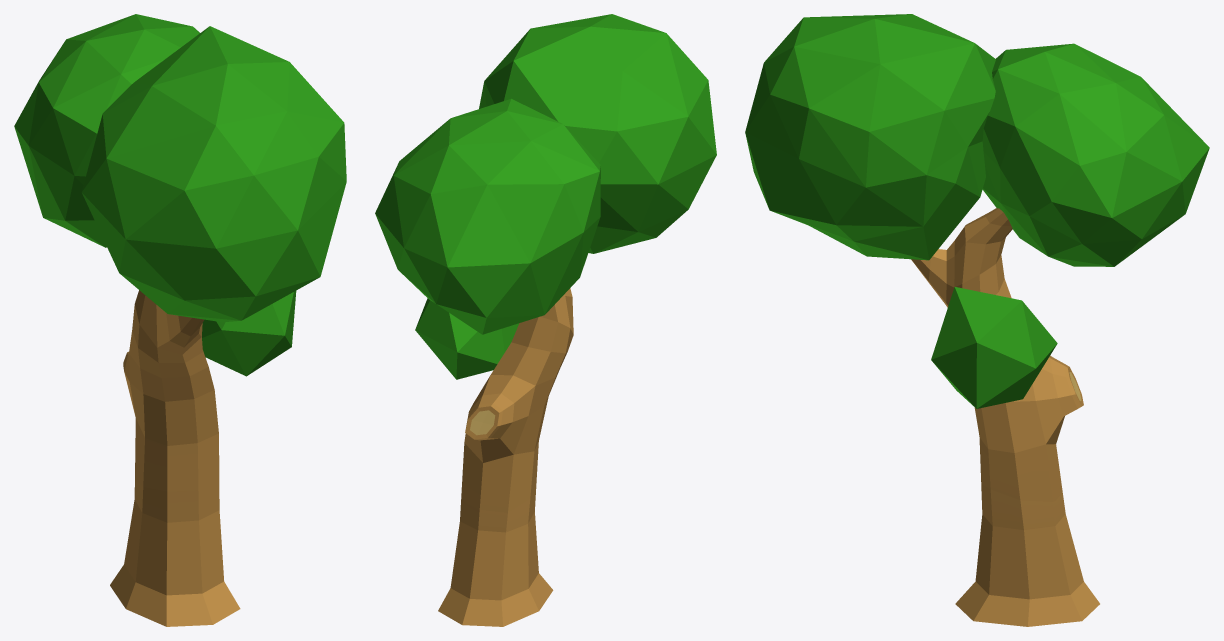
Rendered from Tree1Broken.fbx.
3 renders of one model, left to right at view 1: azimuth 30°, elevation 25°; view 2: azimuth 150°, elevation 25°; view 3: azimuth 270°, elevation 25°, orthographic. The views are drawn at different scales.
Visible parts, largest first — view 1: Leaves, Tree_1; view 2: Leaves, Tree_1; view 3: Leaves, Tree_1.
Boxes of the visible parts, box(x1,y1,x2,y2) form: Leaves: box(14, 14, 346, 376); Tree_1: box(110, 290, 240, 626); Leaves: box(375, 14, 716, 379); Tree_1: box(438, 288, 573, 626); Leaves: box(745, 14, 1209, 408); Tree_1: box(911, 208, 1099, 626).
Bounding box in the file's own units: 530 × 1232 × 906.
